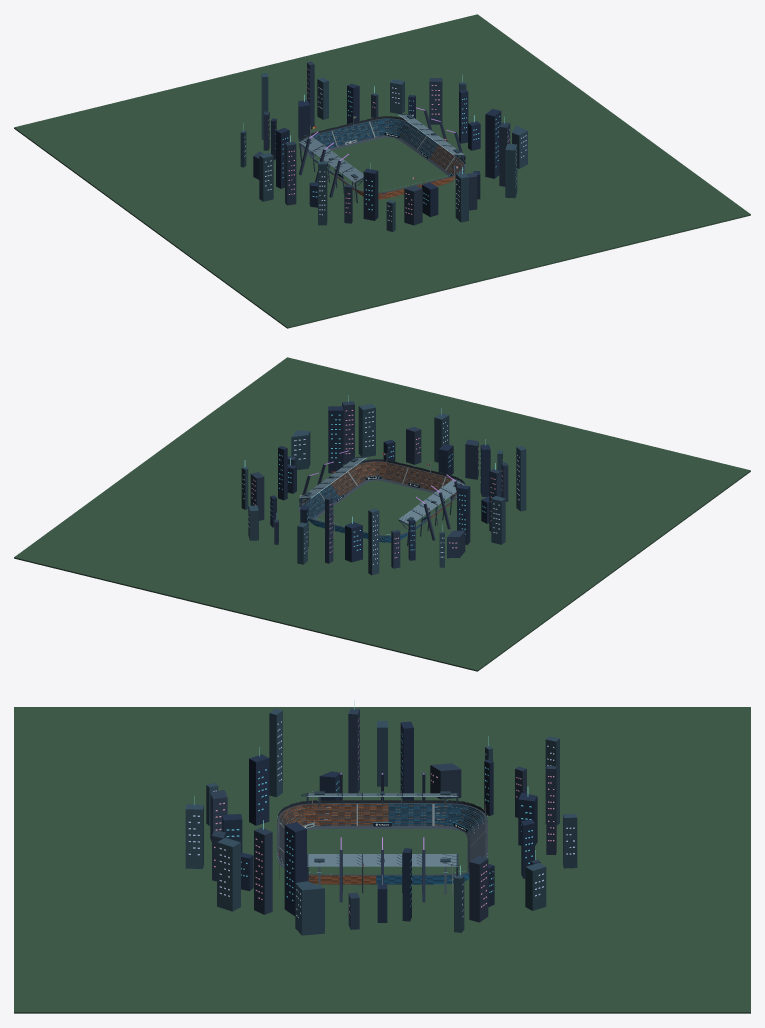
The model's file is neon-v2.glb.
The picture shows the model from 3 angles, top to bottom: view 1: azimuth 30°, elevation 25°; view 2: azimuth 150°, elevation 25°; view 3: azimuth 270°, elevation 25°; orthographic projection. The views are drawn at different scales.
Parts seen in each view (by area): view 1: Arena architecture / neon, Arena lettering and light ribbons / neon; view 2: Arena architecture / neon, Arena lettering and light ribbons / neon; view 3: Arena architecture / neon, Arena lettering and light ribbons / neon.
Boxes of the visible parts, left/top/right/bottom form: Arena architecture / neon: left=14, top=14, right=750, bottom=328; Arena lettering and light ribbons / neon: left=243, top=68, right=526, bottom=221; Arena architecture / neon: left=14, top=357, right=750, bottom=671; Arena lettering and light ribbons / neon: left=242, top=395, right=519, bottom=564; Arena architecture / neon: left=14, top=707, right=750, bottom=1013; Arena lettering and light ribbons / neon: left=188, top=700, right=574, bottom=917.
Bounding box in the file's own units: 61300 × 8779 × 62600.
Materials: 4 (2 with a texture image).
